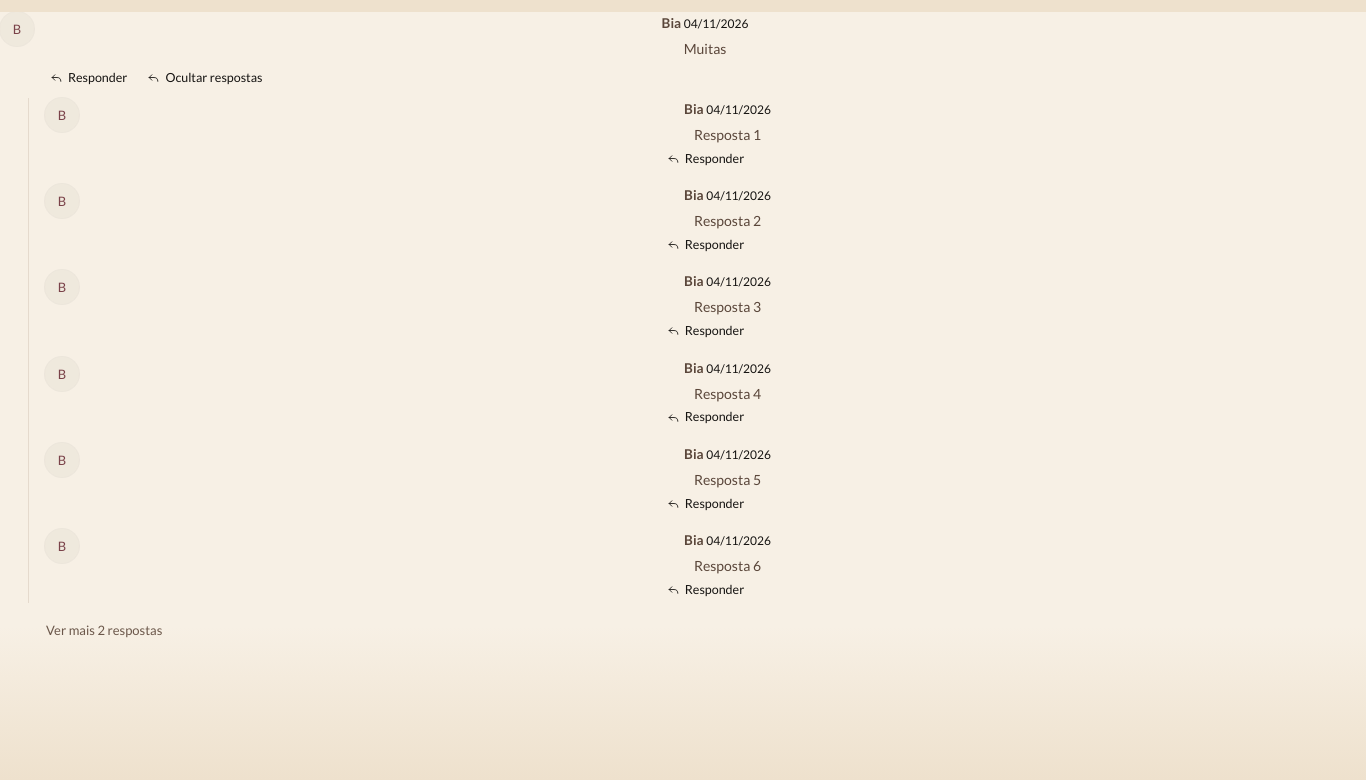
Scenario: CommentThread — respostas à vista (até 6), o resto recolhido › com mais de 6 respostas, mostra 6 e recolhe as seguintes atrás de "Ver mais"
Expected: the text "Resposta 6" is shown, [694,557,761,574]
Expected: the text "Resposta 7" is not shown
Click the button "Ver mais 2 respostas". click: [104, 630]
box: [44,613,164,647]
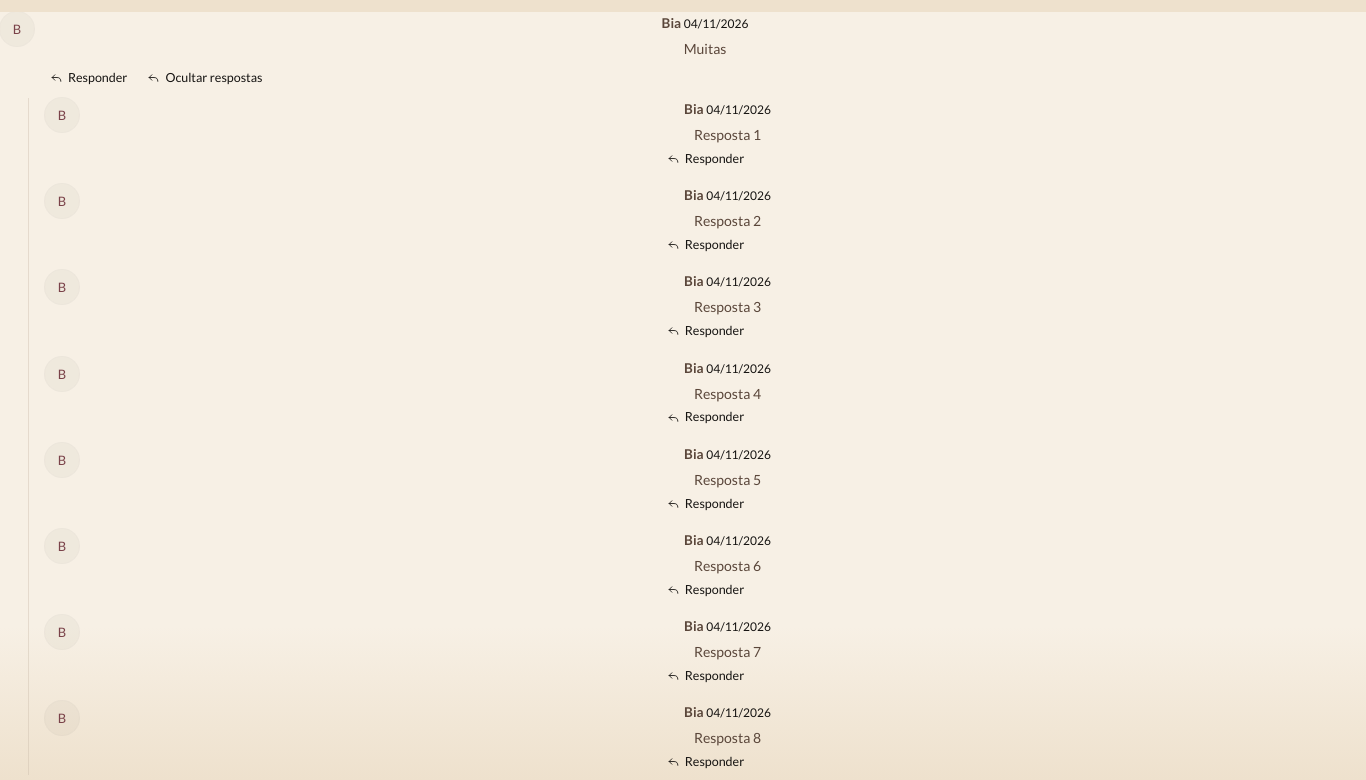
Result: the text "Resposta 8" is shown at [694,729,761,746]
